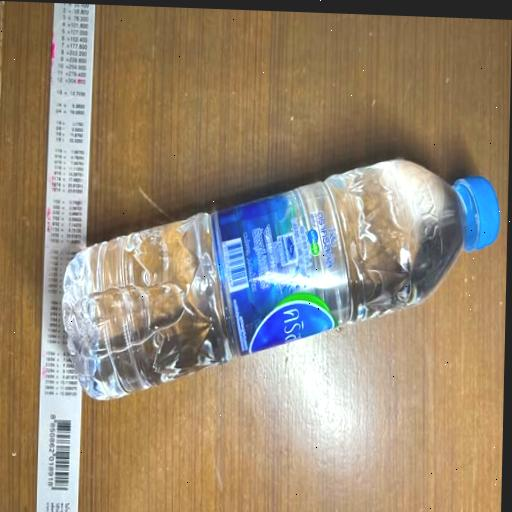ba: (36, 101, 509, 446)
